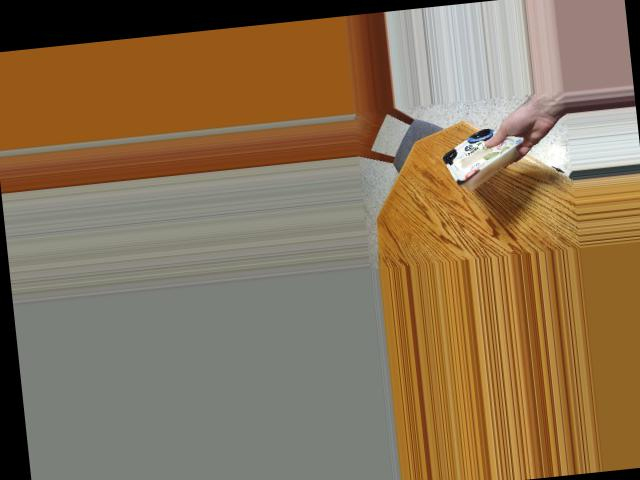cheese: (442, 116, 516, 199)
